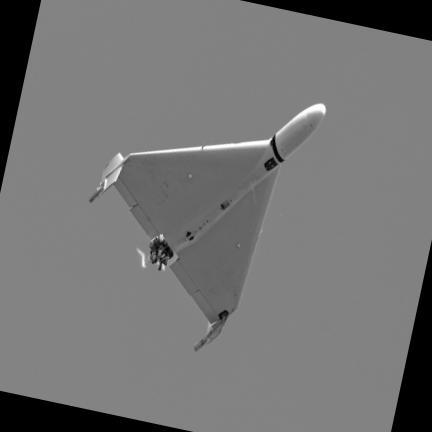Shahed: (93, 105, 324, 336)
